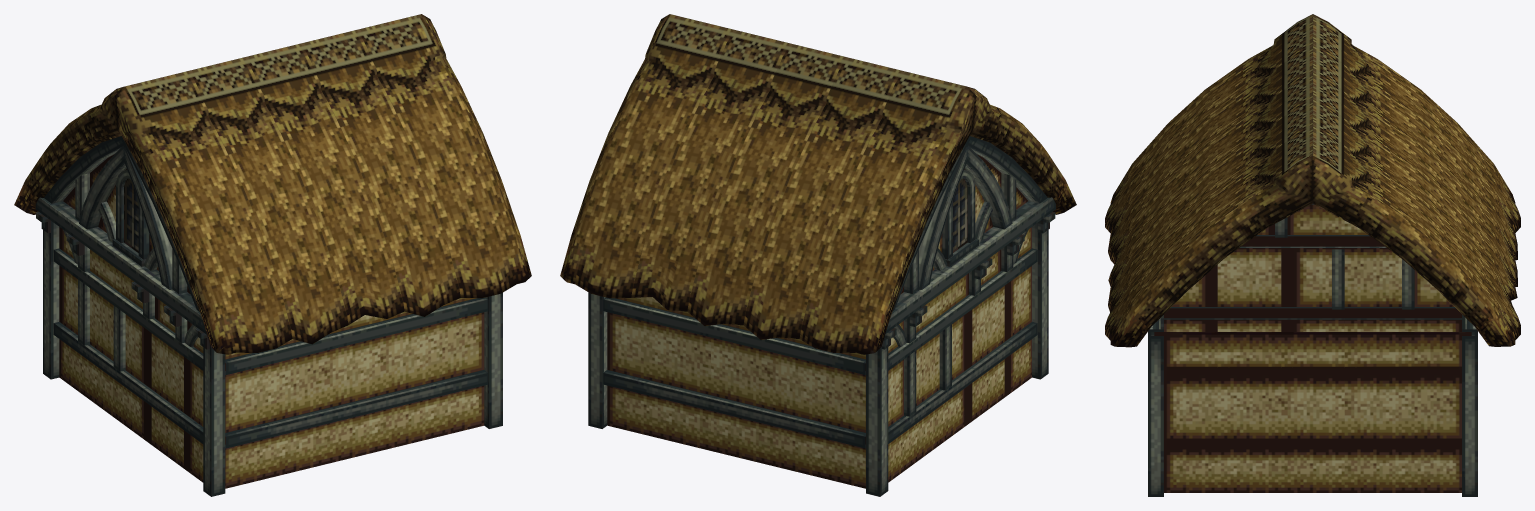
File: EnvBdgMD_Forest_A_Outdoor_House_B.fbx
3 views of the same model, side by side, from view 1: azimuth 30°, elevation 25°; view 2: azimuth 150°, elevation 25°; view 3: azimuth 270°, elevation 25° (orthographic). The views are drawn at different scales.
Visible parts, largest first — view 1: EnvBdgMD_Forest_A_Outdoor_House_B; view 2: EnvBdgMD_Forest_A_Outdoor_House_B; view 3: EnvBdgMD_Forest_A_Outdoor_House_B.
Part boxes in pixels (x1=…): EnvBdgMD_Forest_A_Outdoor_House_B: x1=14, y1=14, x2=531, y2=496; EnvBdgMD_Forest_A_Outdoor_House_B: x1=560, y1=14, x2=1076, y2=496; EnvBdgMD_Forest_A_Outdoor_House_B: x1=1105, y1=14, x2=1520, y2=496.
Bounding box in the file's own units: 563 × 595 × 655.
